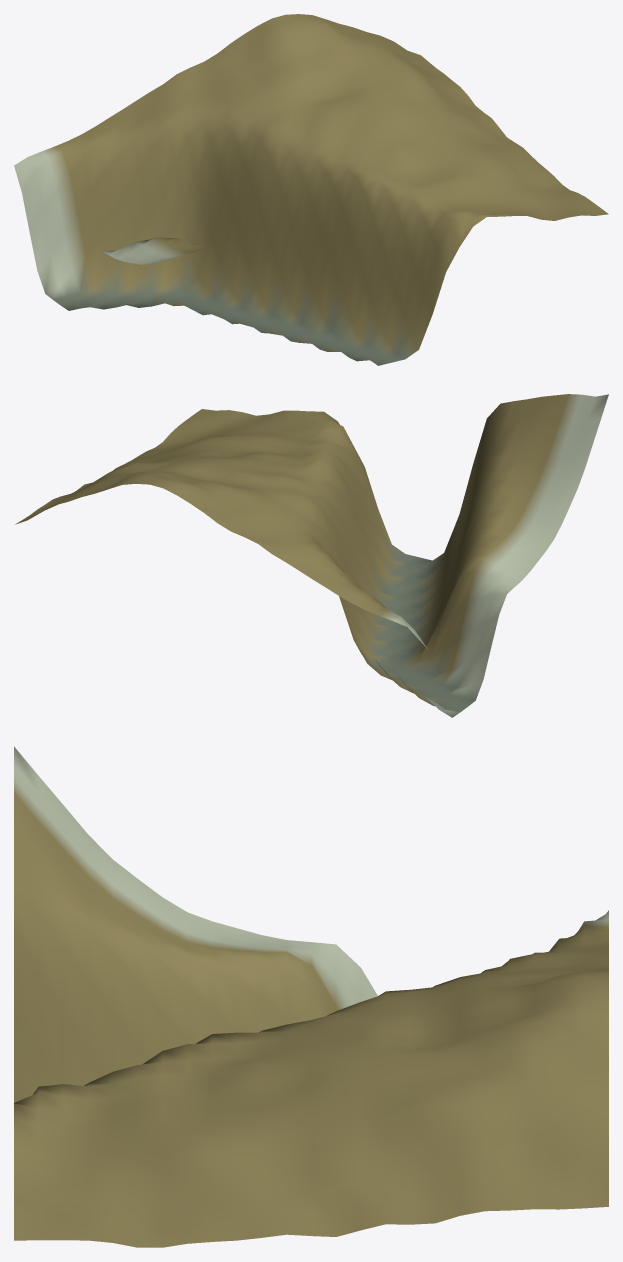
3 views of the same model, one above another, from view 1: azimuth 30°, elevation 25°; view 2: azimuth 150°, elevation 25°; view 3: azimuth 270°, elevation 25° (orthographic). The views are drawn at different scales.
Visible parts, largest first — view 1: world-ground/180-144; view 2: world-ground/180-144; view 3: world-ground/180-144.
Boxes of the visible parts, x1,y1,x2,y2 form: world-ground/180-144: [14, 14, 608, 365]; world-ground/180-144: [15, 394, 608, 717]; world-ground/180-144: [14, 746, 608, 1247].
Bounding box in the file's own units: 37.5 × 18.42 × 30.
